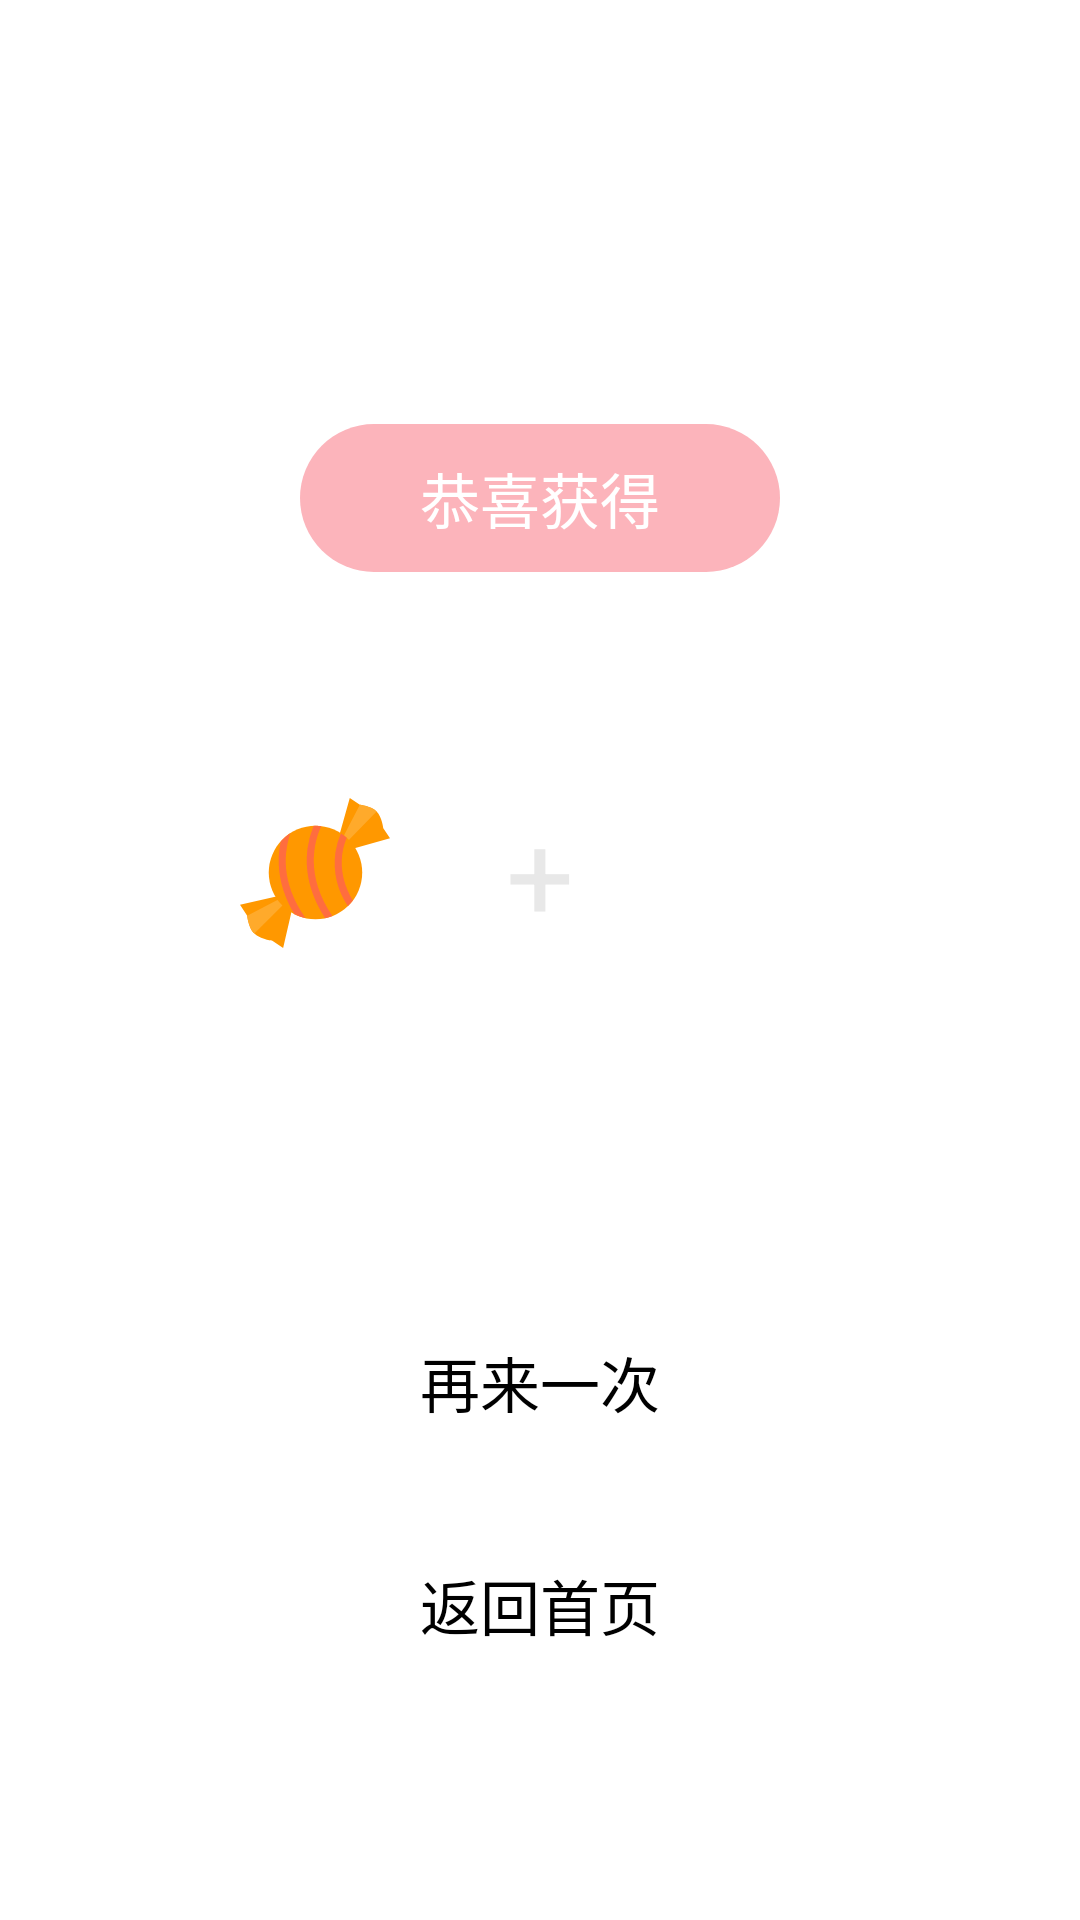

Point at icon controls on the screen. Image size 1080 x 1920, points as point (x, y).
candy: point (315, 873)
